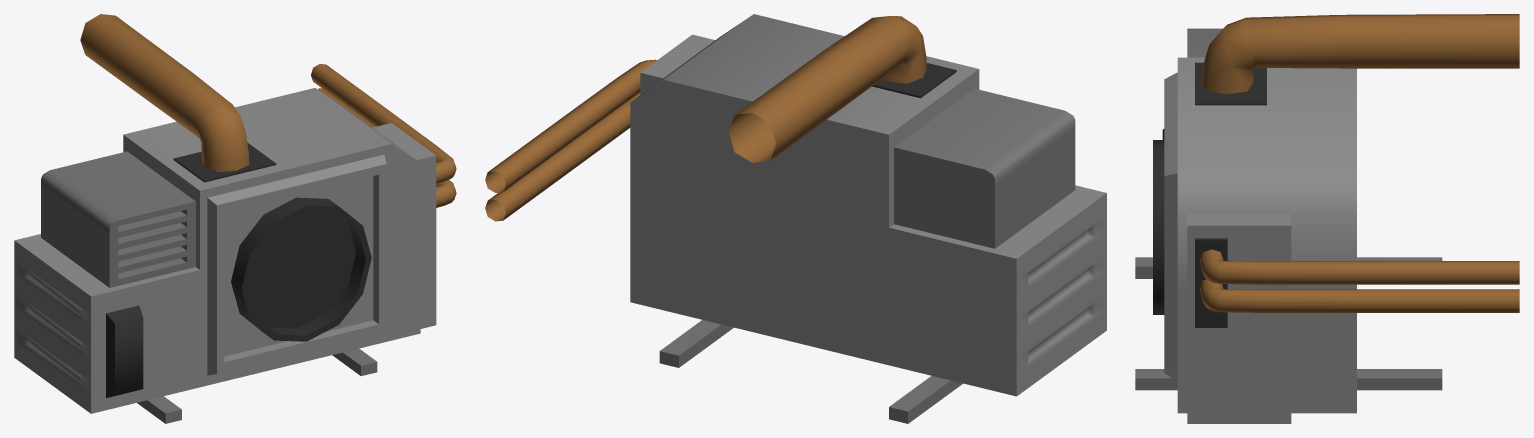
Rendered from quat_ac.glb.
3 views of the same model, side by side, from view 1: azimuth 30°, elevation 25°; view 2: azimuth 150°, elevation 25°; view 3: azimuth 270°, elevation 25° (orthographic). The views are drawn at different scales.
Parts seen in each view (by area): view 1: AC; view 2: AC; view 3: AC.
Boxes of the visible parts, x1,y1,x2,y2 form: AC: (14,14,456,423); AC: (485,14,1106,423); AC: (1135,14,1519,423).
Bounding box in the file's own units: 1.04 × 0.6856 × 0.771.
